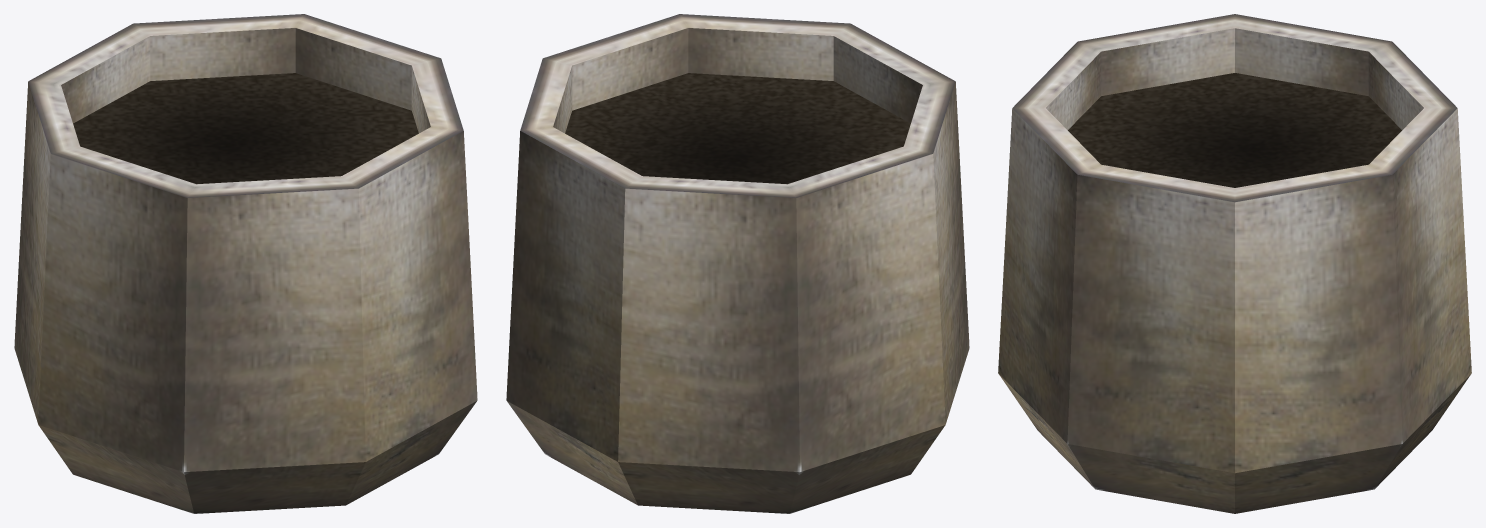
The model's file is pot.fbx.
3 renders of one model, left to right at view 1: azimuth 30°, elevation 25°; view 2: azimuth 150°, elevation 25°; view 3: azimuth 270°, elevation 25°, orthographic.
Parts seen in each view (by area): view 1: pot3; view 2: pot3; view 3: pot3.
Part boxes in pixels (bbox=[...]): pot3: bbox=[14, 14, 477, 513]; pot3: bbox=[506, 14, 969, 513]; pot3: bbox=[998, 14, 1471, 513].
Size of the model in its own units: 35.59 by 26.73 by 35.59.
1 material, 1 textured.
